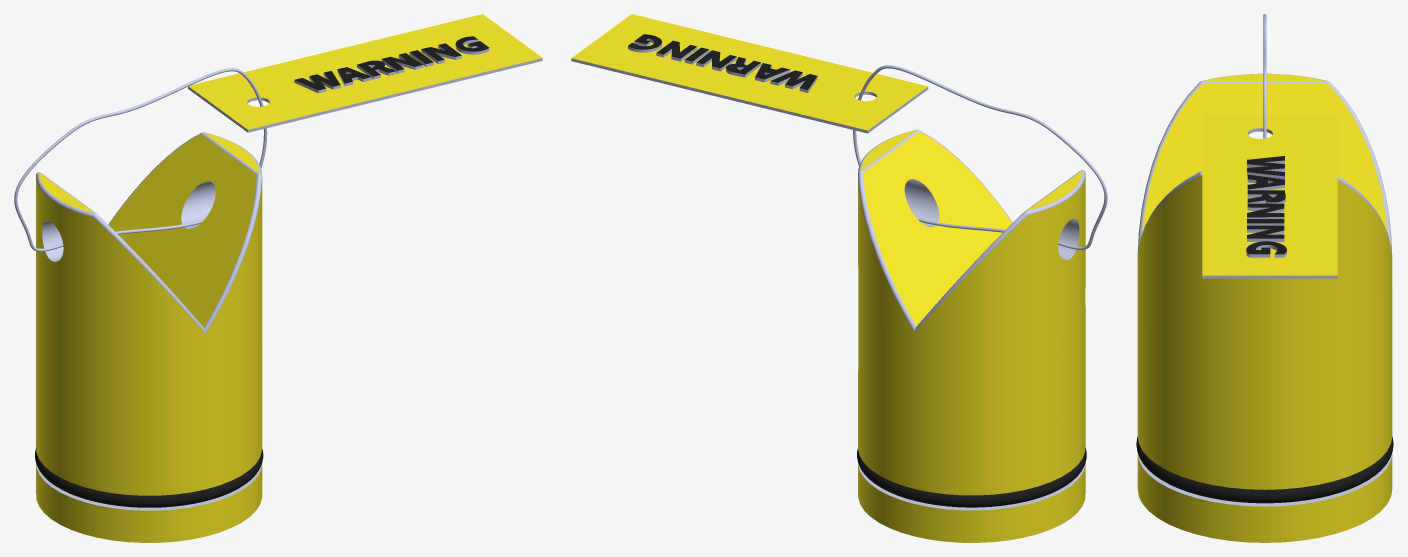
The model's file is CIRCUIT BREAKER SAFETY LOCKS yellow.fbx.
3 views of the same model, side by side, from view 1: azimuth 30°, elevation 25°; view 2: azimuth 150°, elevation 25°; view 3: azimuth 270°, elevation 25° (orthographic). The views are drawn at different scales.
Bounding box in the file's own units: 3.58 × 2.78 × 1.41.
